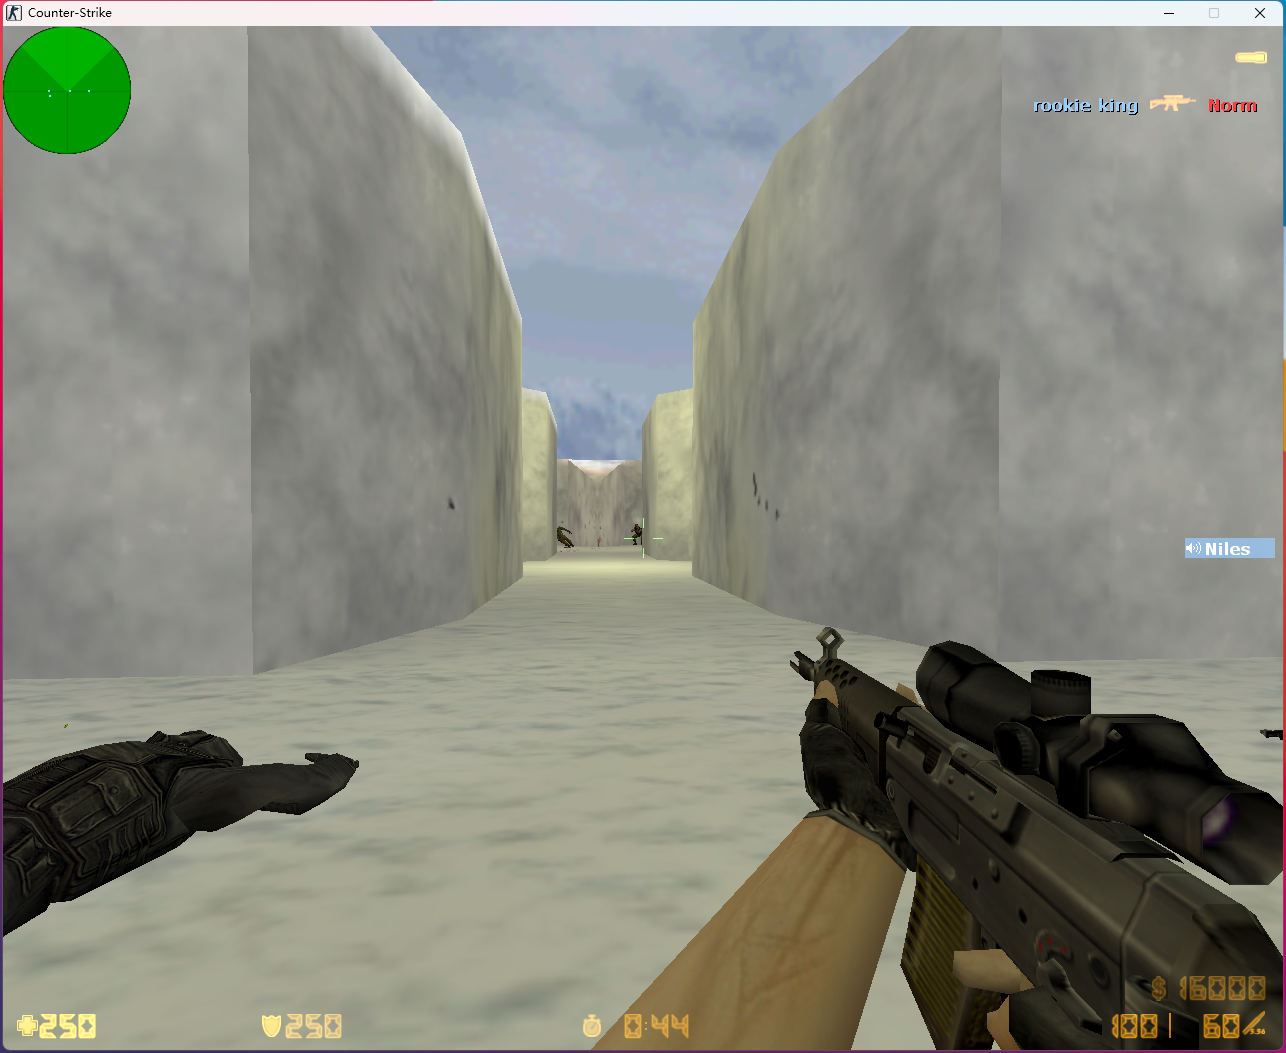C: (1, 725, 359, 934)
T: (627, 523, 642, 546)
dead: (552, 526, 573, 548)
